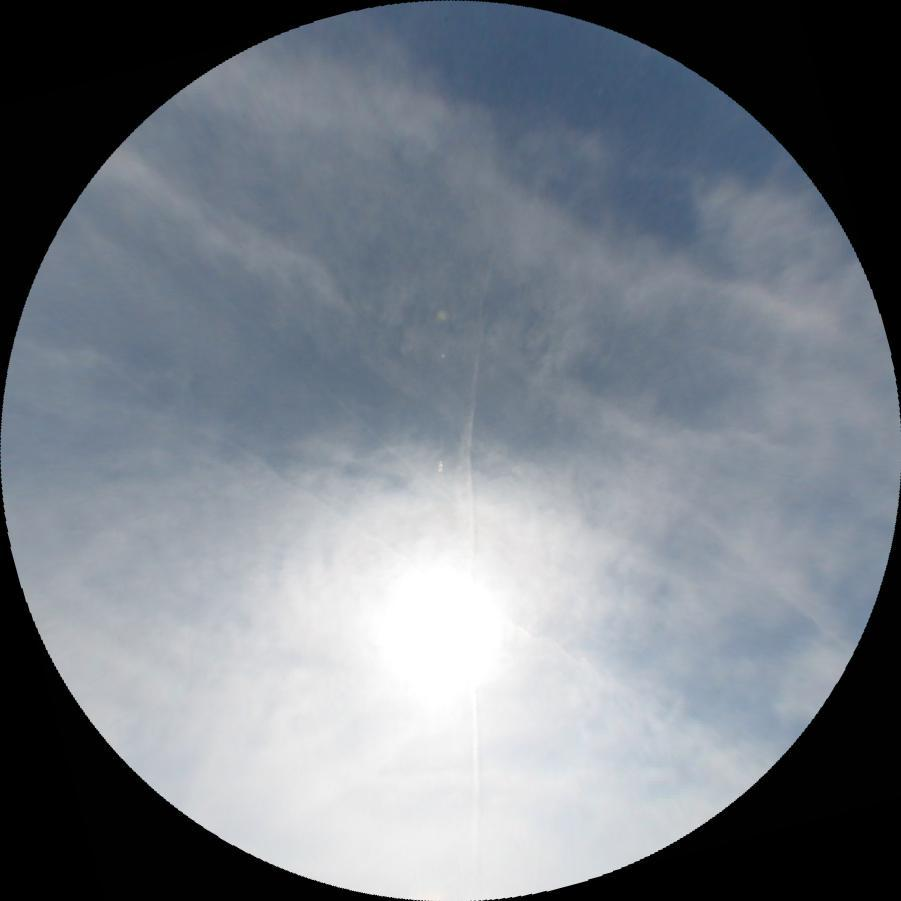contrail old: (224, 302, 508, 551), (674, 487, 840, 639), (455, 246, 497, 834)
contrail veryold: (198, 423, 410, 563)
sun: (345, 541, 525, 722)
